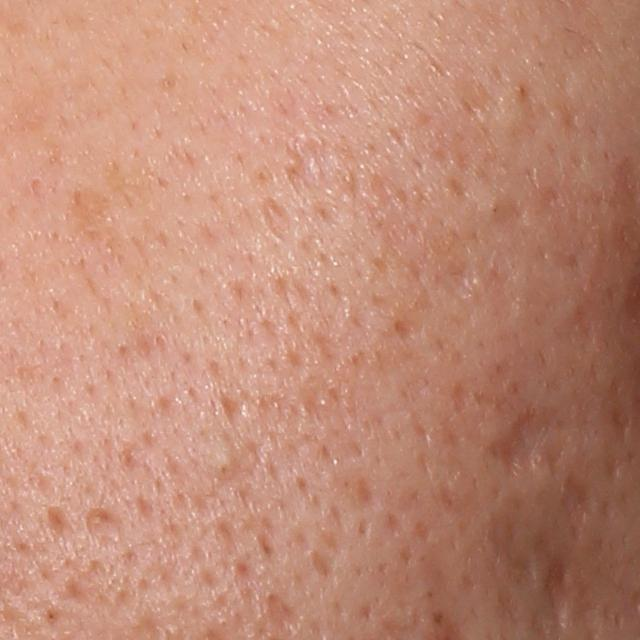atrophic_scar: (476, 401, 581, 482), (280, 133, 355, 210), (544, 550, 581, 636), (252, 198, 303, 253), (559, 473, 593, 541), (437, 254, 481, 303), (80, 510, 125, 550), (491, 190, 527, 233), (352, 471, 380, 522), (267, 592, 297, 636), (44, 504, 79, 538), (223, 392, 257, 426), (308, 546, 337, 581), (388, 316, 418, 343)
